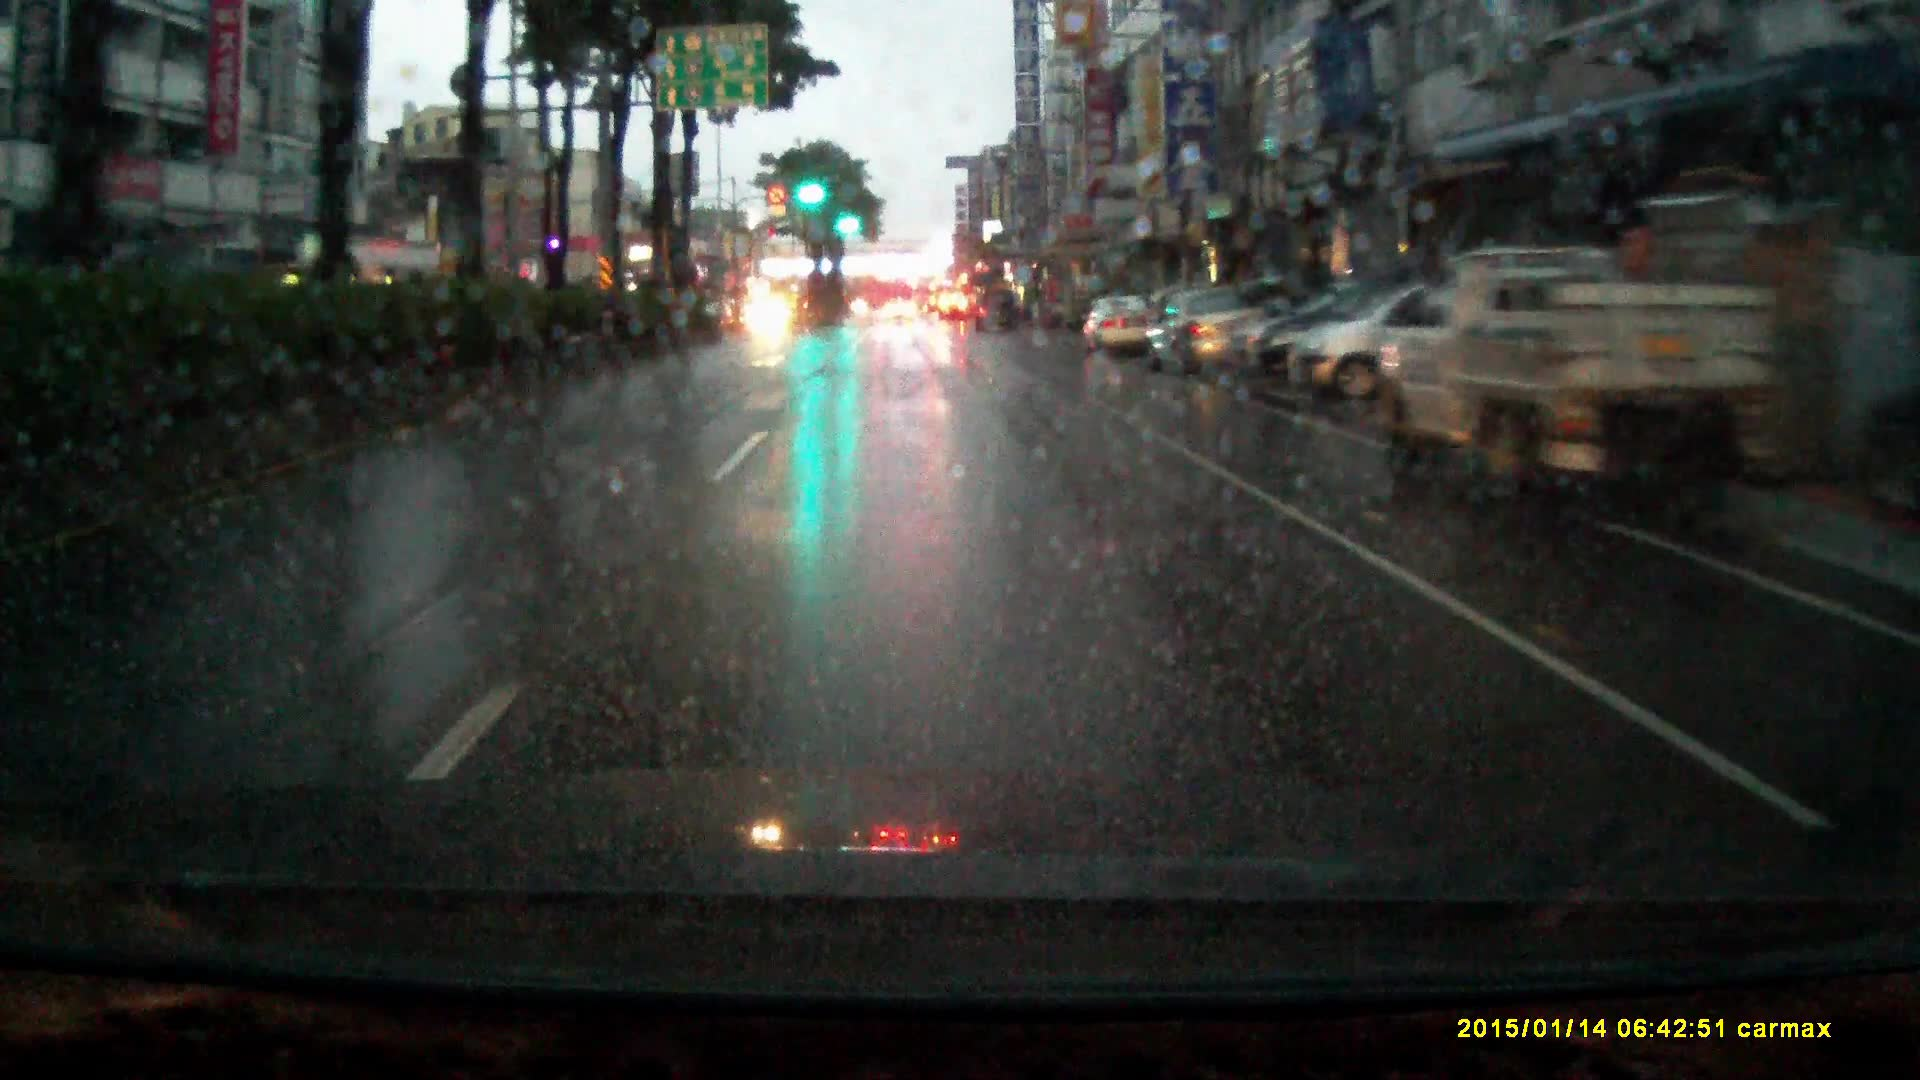vehicle: (1367, 251, 1801, 559), (1288, 290, 1453, 407), (1145, 295, 1284, 392), (1087, 303, 1154, 369), (973, 295, 1025, 340), (745, 301, 798, 343), (913, 284, 939, 319), (939, 301, 969, 328), (886, 305, 916, 324)
